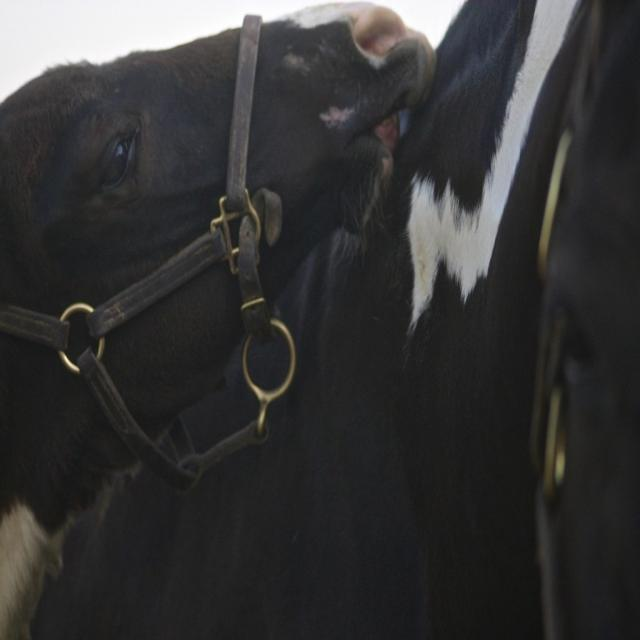Horse: (0, 0, 437, 639)
